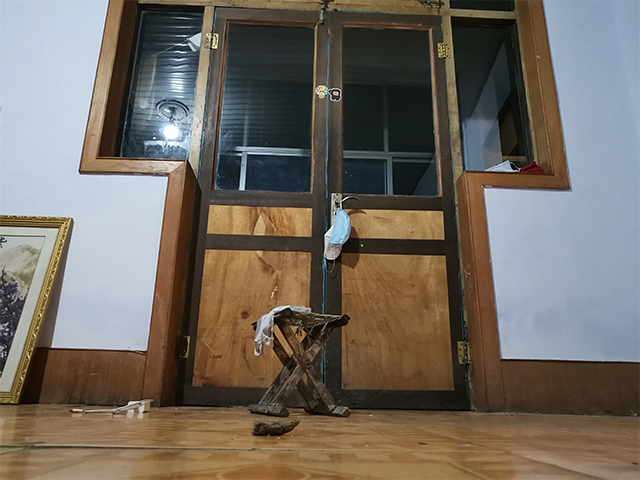feces: (251, 418, 300, 438)
stool: (246, 307, 354, 419)
wire: (68, 395, 156, 418)
